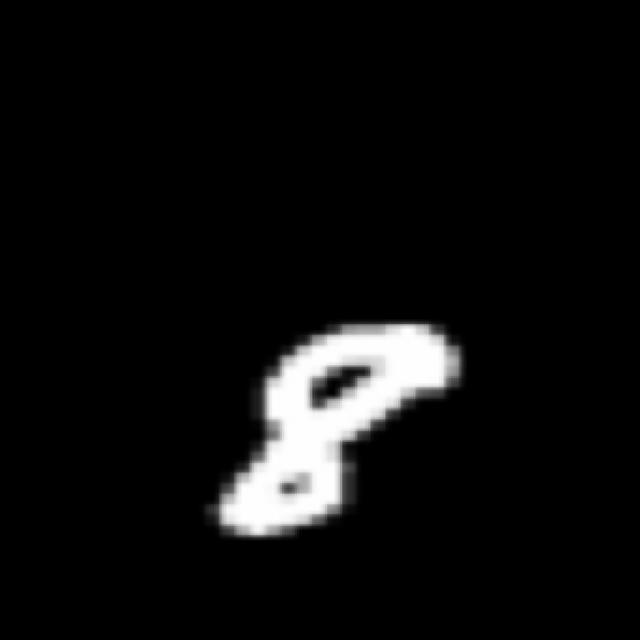eight -8-: (207, 307, 478, 551)
